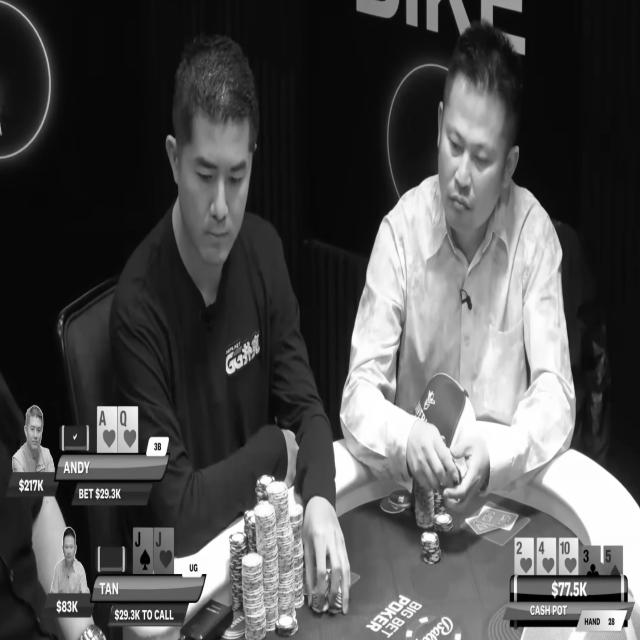10H: (559, 537, 578, 575)
2H: (514, 537, 535, 575)
3C: (582, 545, 601, 579)
4H: (538, 538, 556, 574)
5D: (604, 545, 622, 577)
AH: (98, 406, 118, 451)
JH: (152, 529, 174, 576)
JS: (133, 528, 153, 572)
QH: (117, 406, 138, 454)
